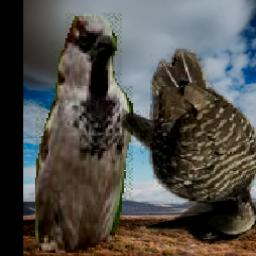Sparrow: (34, 6, 132, 256)
Woodpecker: (115, 47, 256, 245)
